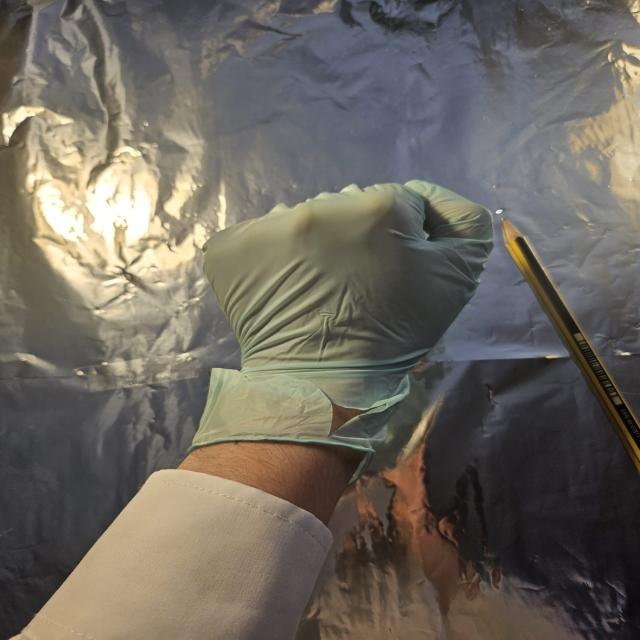gloves_damaged: (184, 179, 497, 489)
